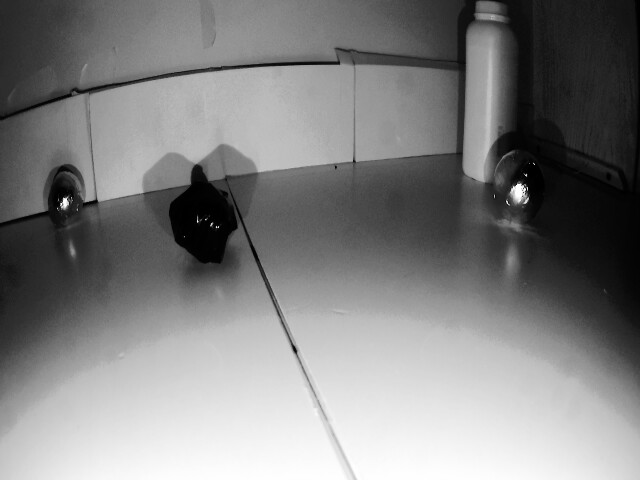black: (491, 150, 553, 235), (45, 167, 85, 223)
silver: (165, 185, 240, 263)
